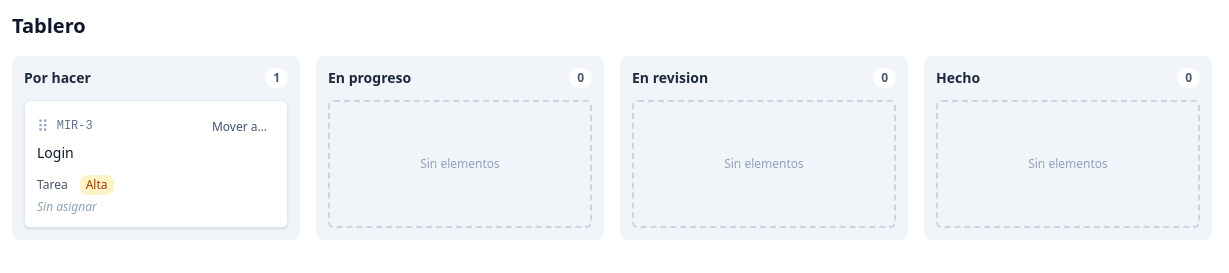
Test: KanbanBoard › mover tarjetas con el menu "Mover a…" (MIR-19) › ofrece solo las otras columnas del tablero, nunca la actual ni Backlog
The width and height of the screenshot is (1229, 273).
Click the button "Mover a…" at (239,127), box [204,115,275,139]
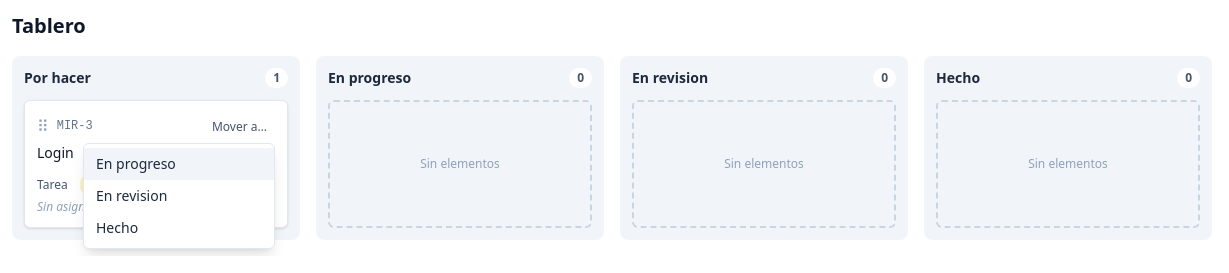
Now the menu items read "En progreso", "En revision", "Hecho", in this order, box [84,148,274,180]; [84,180,274,212]; [84,212,274,244]
